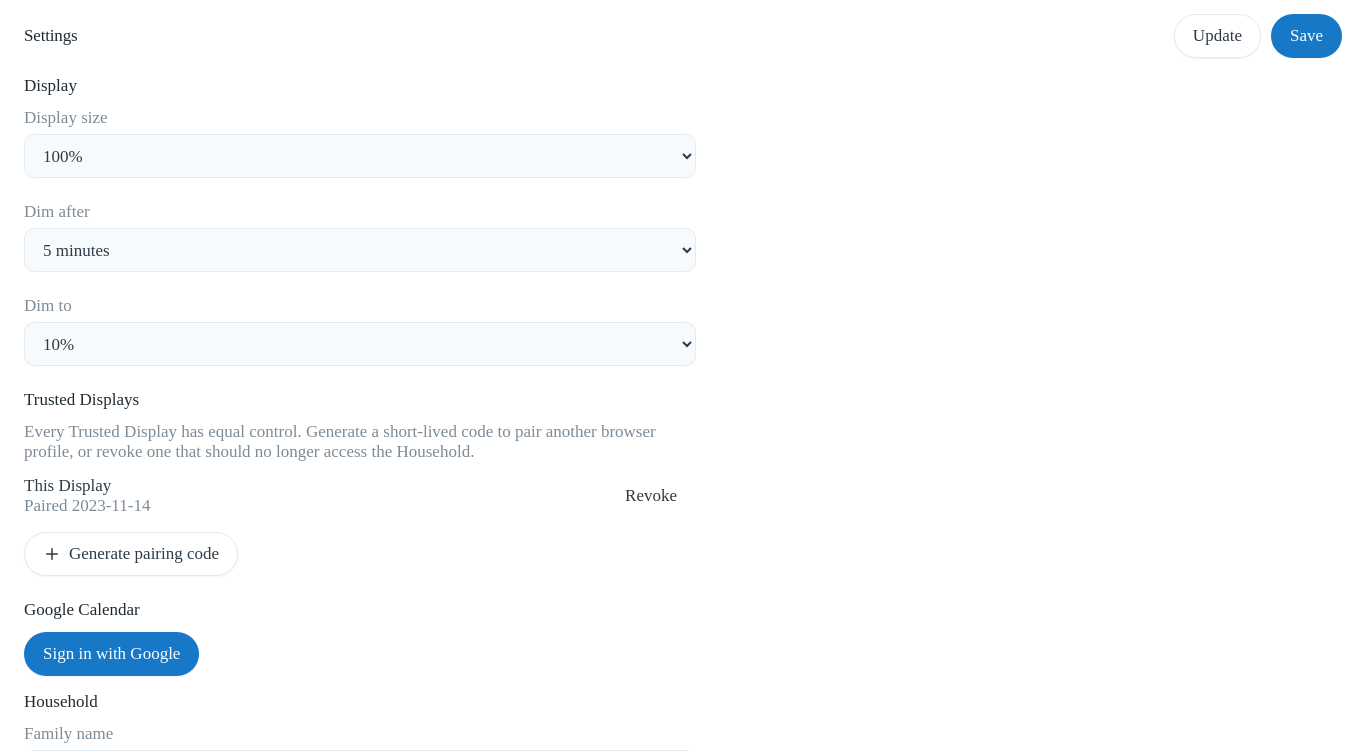
Scenario: Settings Trusted Display revocation › failed self-revoke shows an error and clears inline confirmation
Click the button "Revoke" at (651,496), box 606,474 -> 696,518
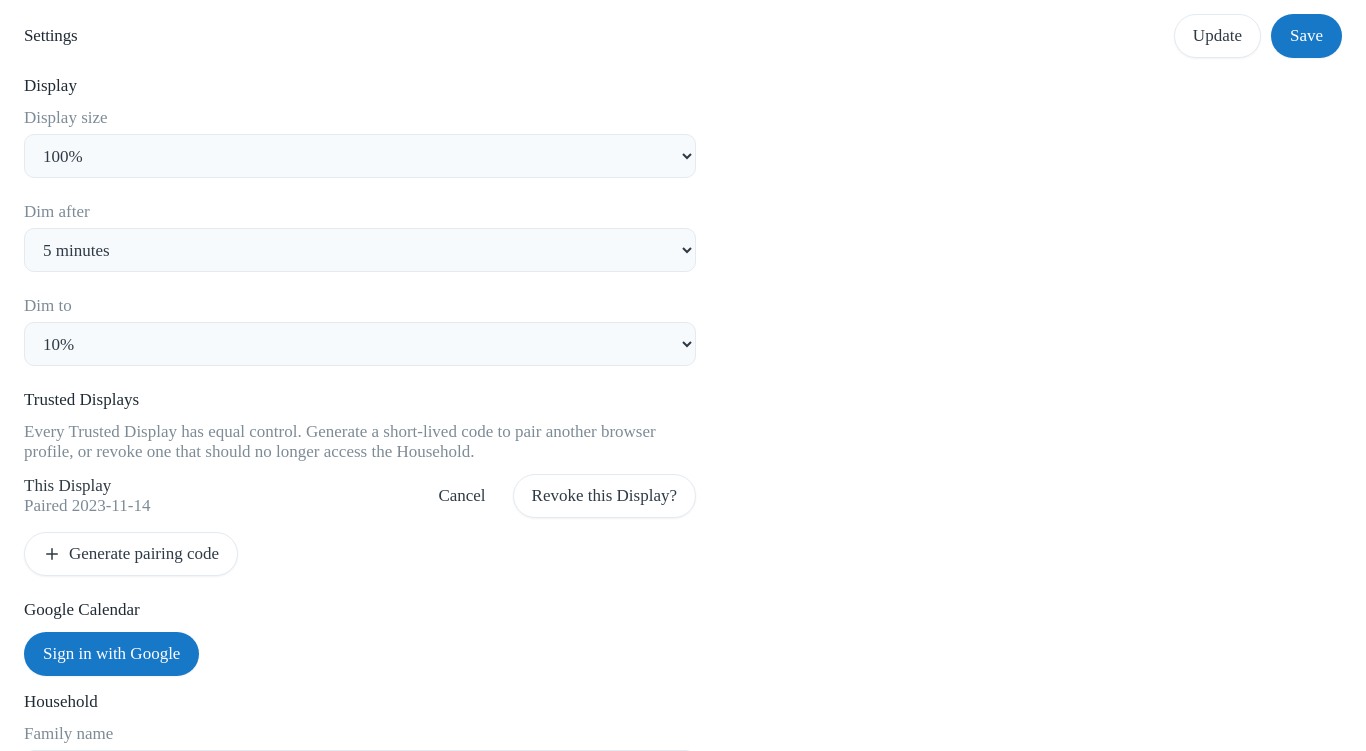
Click the button "Revoke this Display?" at (604,496), box 513,474 -> 696,518
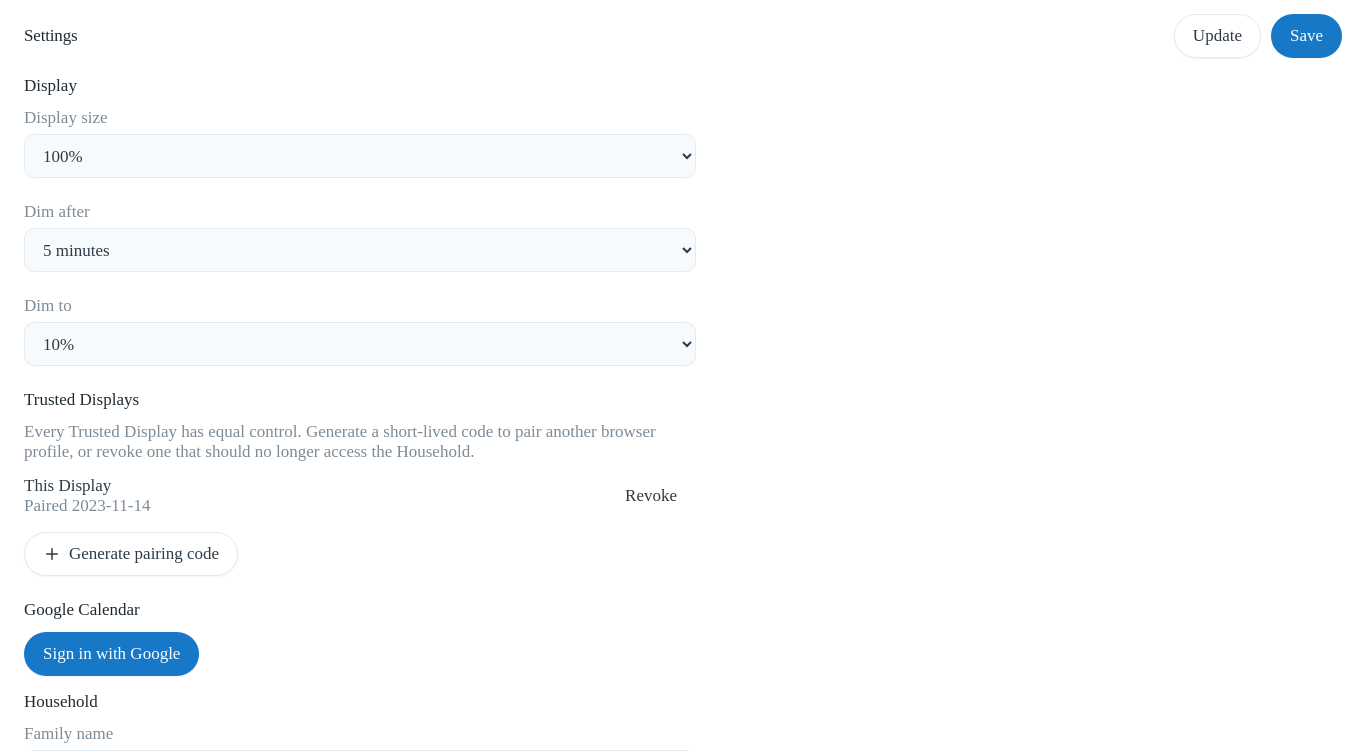
Now the button "Revoke" is shown, box 606,474 -> 696,518
